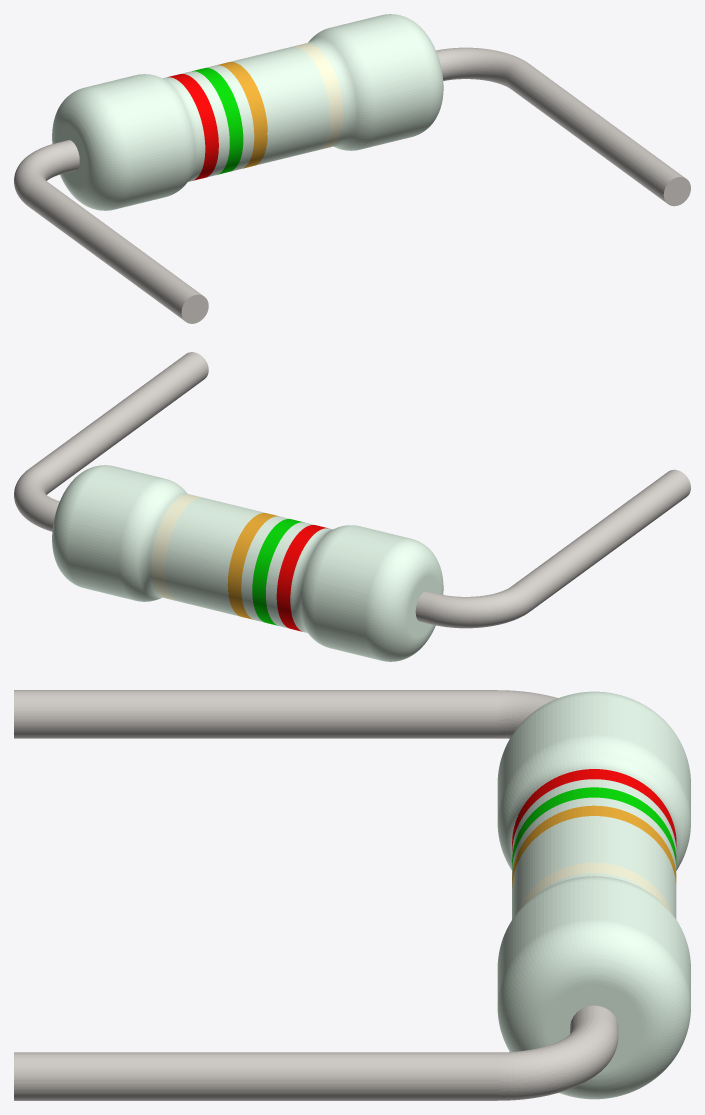
Rendered from resistor.glb.
The picture shows the model from 3 angles, top to bottom: view 1: azimuth 30°, elevation 25°; view 2: azimuth 150°, elevation 25°; view 3: azimuth 270°, elevation 25°; orthographic projection. The views are drawn at different scales.
Parts seen in each view (by area): view 1: Node1, Node4, Node3, Node6, Node2, Node5; view 2: Node1, Node4, Node5, Node3, Node2, Node6; view 3: Node1, Node4, Node2, Node3, Node5, Node6.
Part boxes in pixels (box(x1,y1,x2,y2)): Node1: box(52, 14, 443, 210); Node4: box(14, 47, 690, 323); Node3: box(192, 68, 243, 174); Node6: box(293, 43, 343, 150); Node2: box(217, 62, 267, 168); Node5: box(167, 74, 218, 180); Node1: box(52, 465, 443, 661); Node4: box(14, 352, 690, 628); Node5: box(276, 525, 327, 631); Node3: box(252, 519, 303, 625); Node2: box(227, 513, 278, 619); Node6: box(152, 494, 203, 601); Node1: box(497, 691, 690, 1099); Node4: box(14, 690, 618, 1100); Node2: box(512, 805, 676, 887); Node3: box(512, 787, 676, 869); Node5: box(512, 769, 676, 850); Node6: box(516, 862, 672, 1018).
Size of the model in its own units: 9.36 by 2 by 7.
